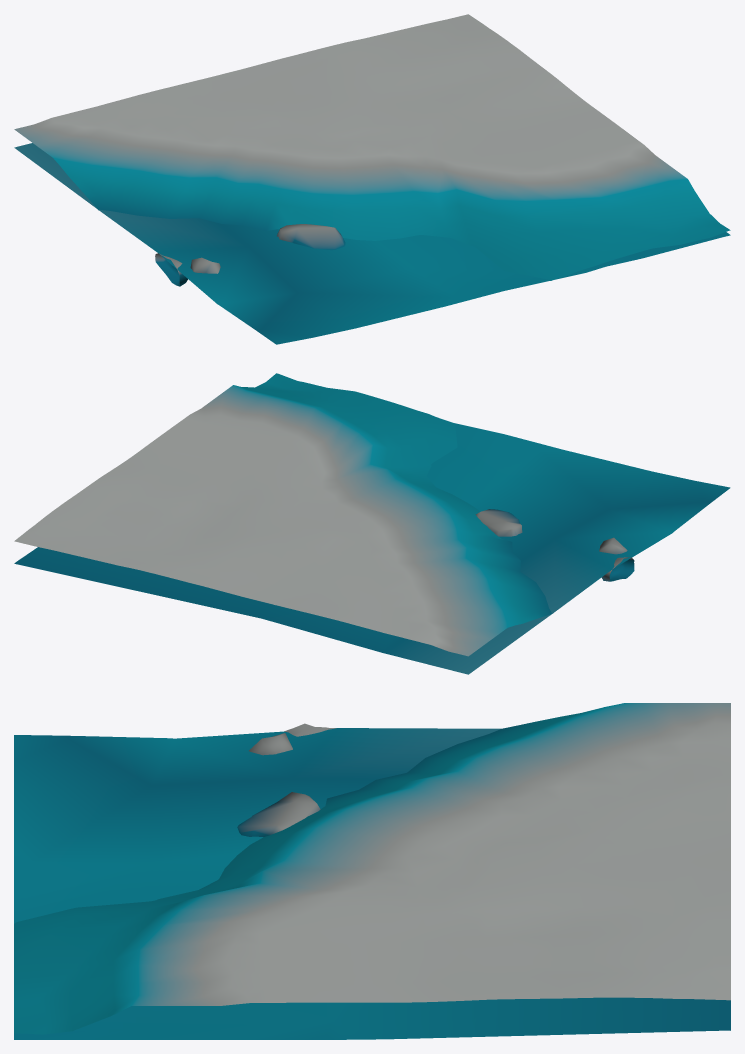
3 views of the same model, one above another, from view 1: azimuth 30°, elevation 25°; view 2: azimuth 150°, elevation 25°; view 3: azimuth 270°, elevation 25° (orthographic). The views are drawn at different scales.
Parts seen in each view (by area): view 1: G:\FFXIV-MapTools\exports\s1f3\bg\ffxiv\sea_s1\fld\s1f3\bgpl (×9); view 2: G:\FFXIV-MapTools\exports\s1f3\bg\ffxiv\sea_s1\fld\s1f3\bgpl (×9); view 3: G:\FFXIV-MapTools\exports\s1f3\bg\ffxiv\sea_s1\fld\s1f3\bgpl (×10).
Part boxes in pixels (<box>): G:\FFXIV-MapTools\exports\s1f3\bg\ffxiv\sea_s1\fld\s1f3\bgpl (×9): <box>14,14,730,344</box>; G:\FFXIV-MapTools\exports\s1f3\bg\ffxiv\sea_s1\fld\s1f3\bgpl (×9): <box>14,373,730,674</box>; G:\FFXIV-MapTools\exports\s1f3\bg\ffxiv\sea_s1\fld\s1f3\bgpl (×10): <box>14,703,730,1039</box>.
Bounding box in the file's own units: 128 × 12.16 × 128.
